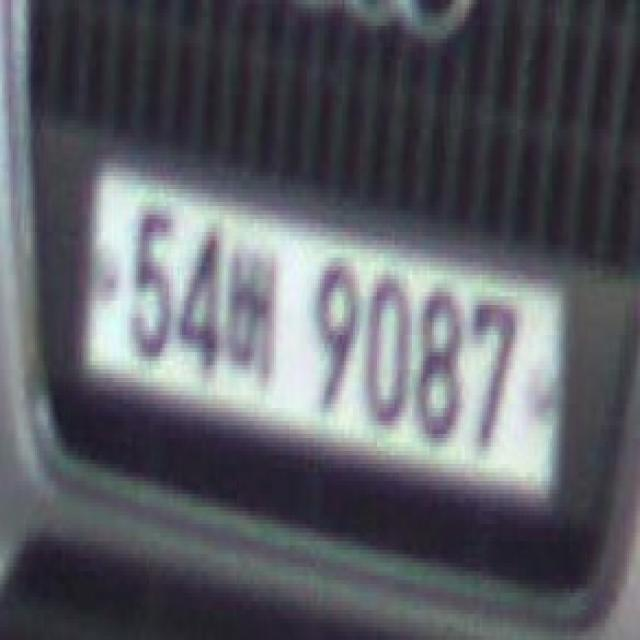0: (362, 232, 414, 464)
4: (169, 180, 219, 396)
5: (116, 176, 178, 378)
7: (465, 271, 526, 455)
8: (418, 262, 464, 468)
9: (314, 244, 362, 416)
beo: (219, 232, 285, 382)
license_plate: (57, 154, 576, 558)
